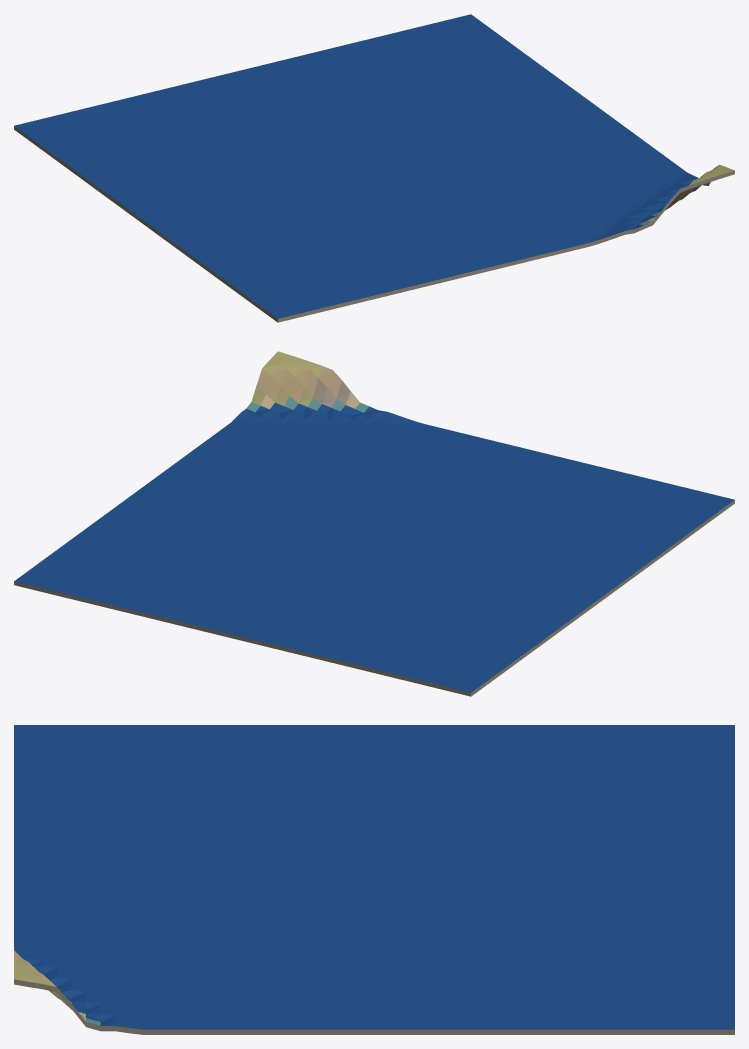
Rendered from parca_-3_-1-uzak.glb.
3 views of the same model, one above another, from view 1: azimuth 30°, elevation 25°; view 2: azimuth 150°, elevation 25°; view 3: azimuth 270°, elevation 25° (orthographic). The views are drawn at different scales.
Visible parts, largest first — view 1: parca_-3_-1_arazi_uzak; view 2: parca_-3_-1_arazi_uzak; view 3: parca_-3_-1_arazi_uzak.
Boxes of the visible parts, x1,y1,x2,y2 form: parca_-3_-1_arazi_uzak: (14,14,734,322); parca_-3_-1_arazi_uzak: (14,351,734,696); parca_-3_-1_arazi_uzak: (14,725,734,1034).
Bounding box in the file's own units: 1000 × 85.21 × 1000.
